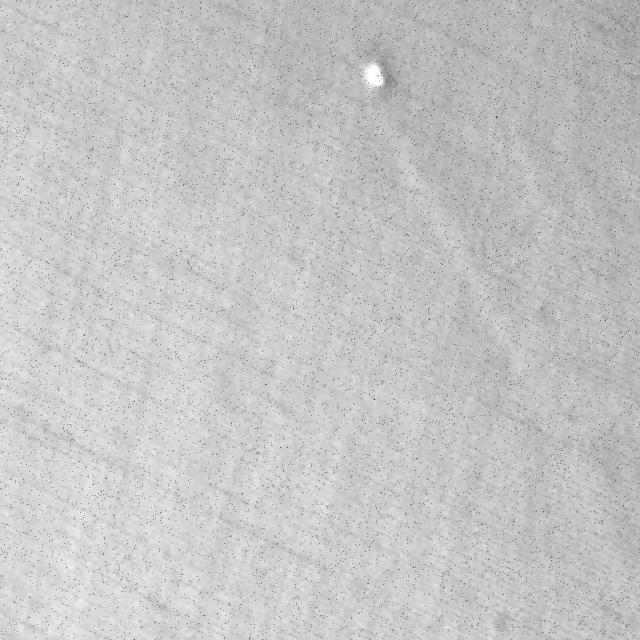other: (318, 36, 418, 135)
